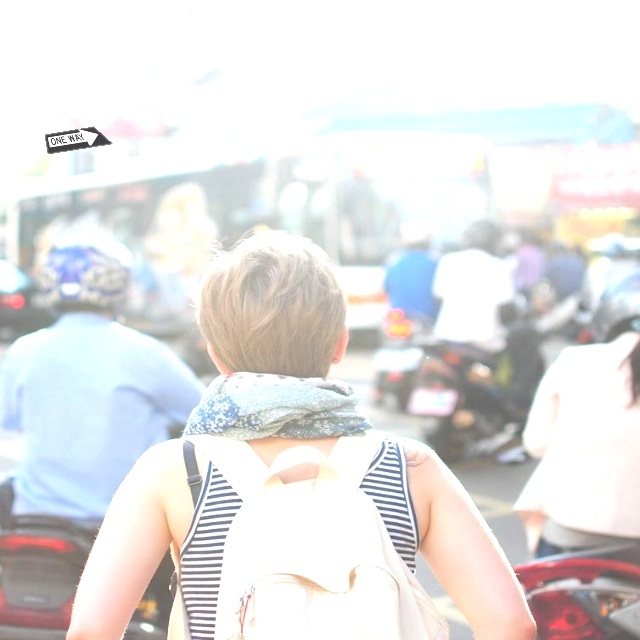ONE_WAY_ right: (44, 126, 113, 154)
